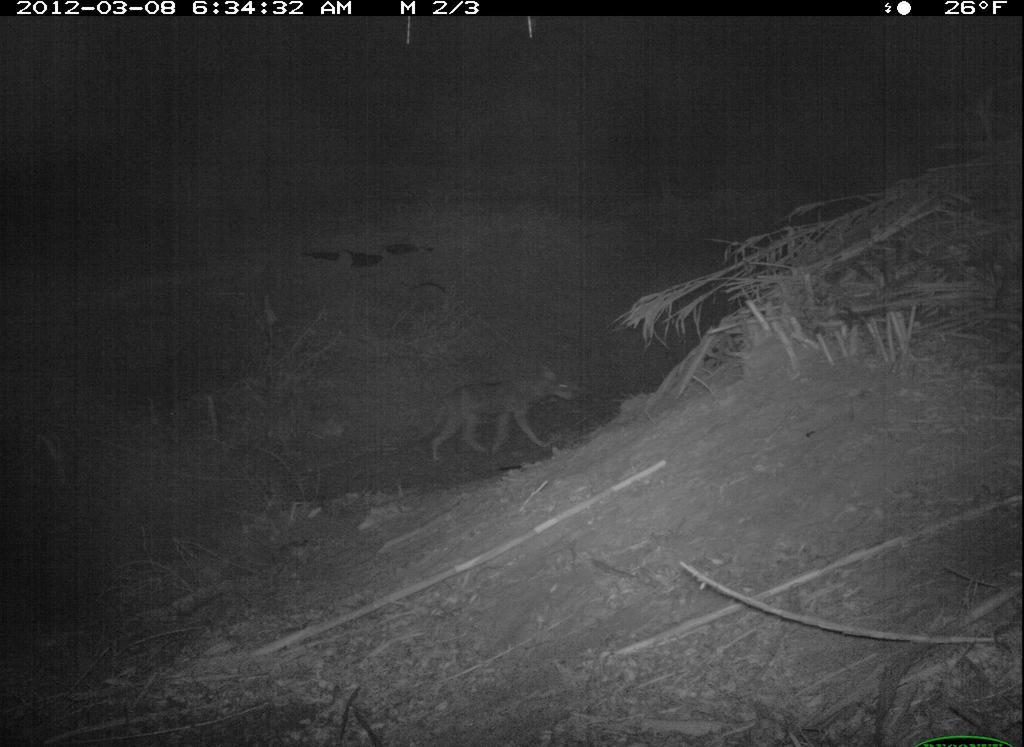coyote: (418, 351, 587, 475)
